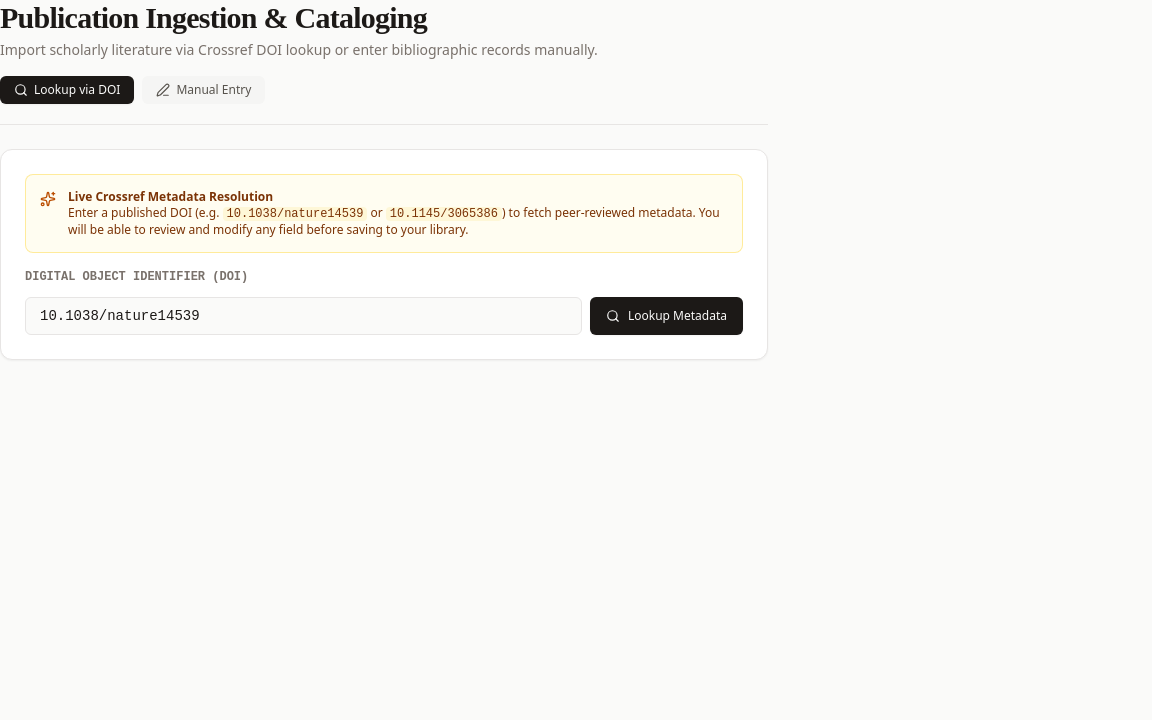
Test: ImportDoiPage (DOI Import & Manual Entry) › displays error when attempting to save a duplicate DOI (409)
Replace the text in the field with placeholder "10.xxxx/xxxxx" with "10.1234/duplicate.doi". click: x=304, y=316
box: [25,297,582,335]
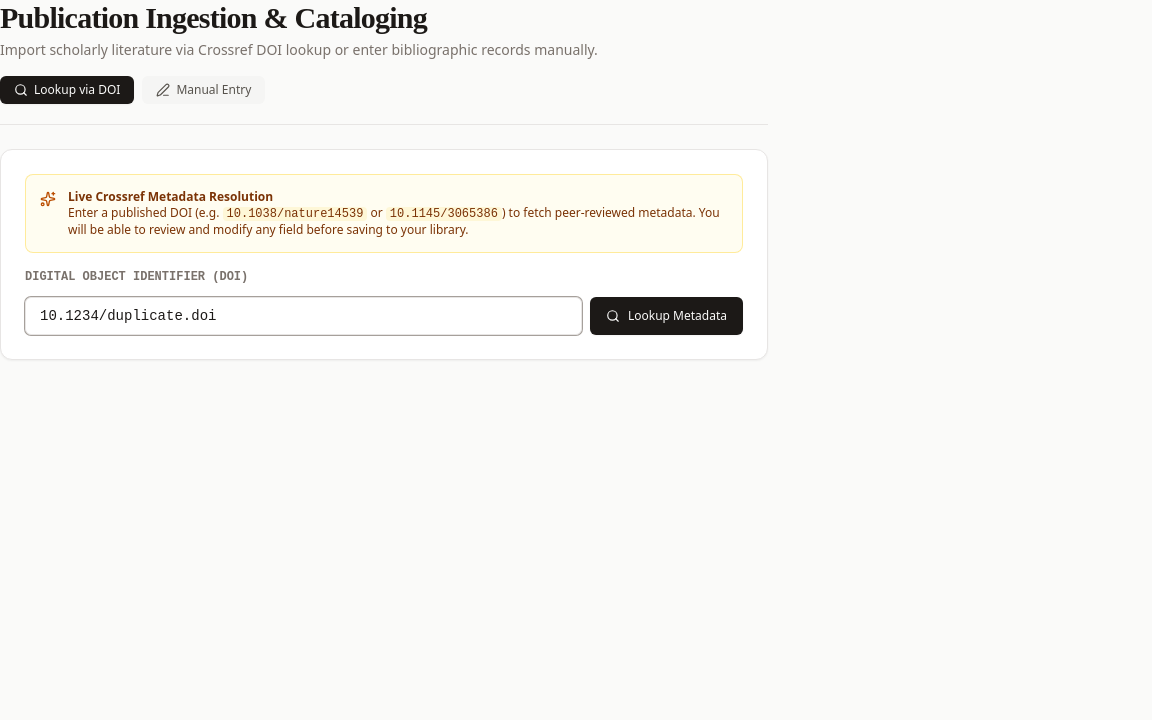
Click the button "Lookup Metadata". click: x=666, y=316
box: [590,297,743,335]
(page scrolled)
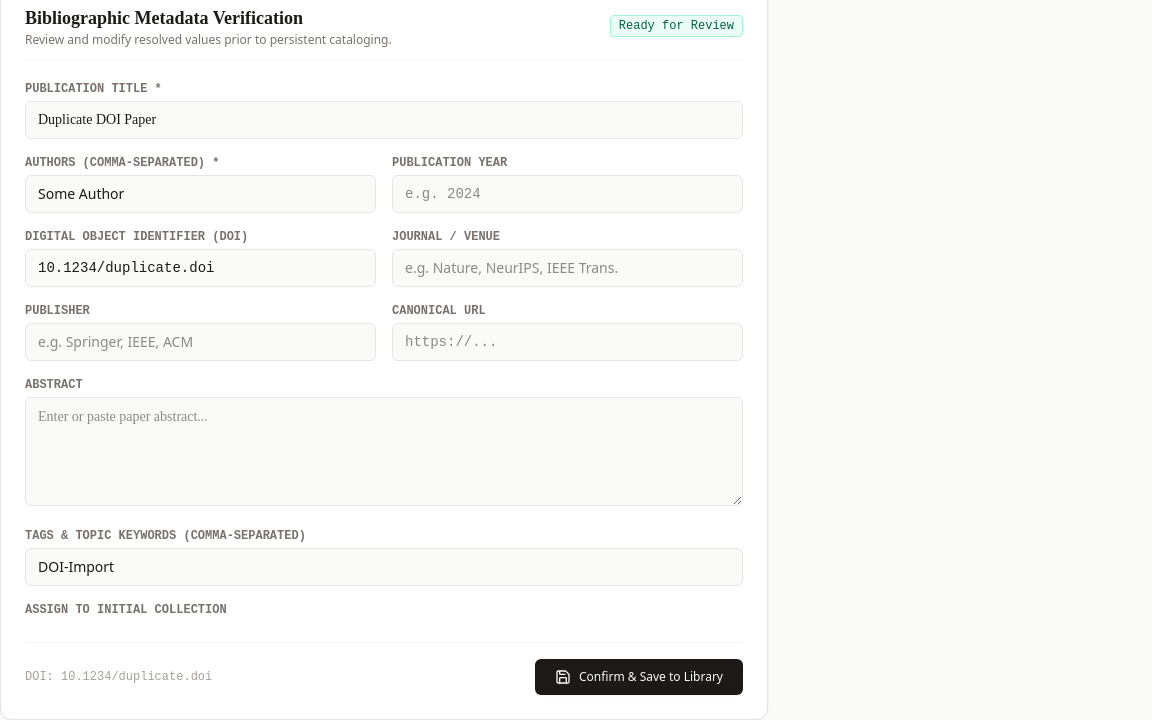
Expected: the field showing "Duplicate DOI Paper" below "Publication Title *" is shown, [25,101,743,139]
Click the button "Confirm & Save to Library". click: x=639, y=677
box: [535,659,743,695]
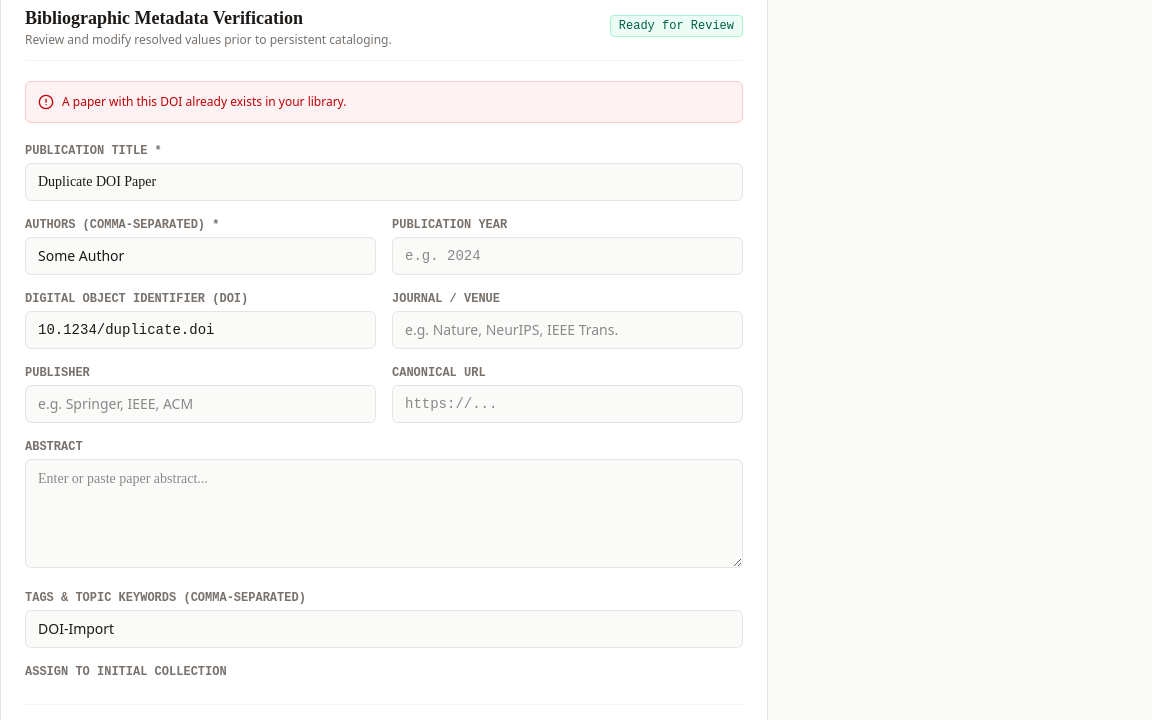
Expected: the text "A paper with this DOI already exists in your library." is shown, [62,94,346,110]
